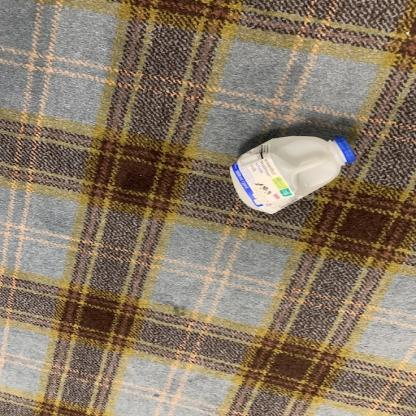trash: (225, 128, 358, 220)
